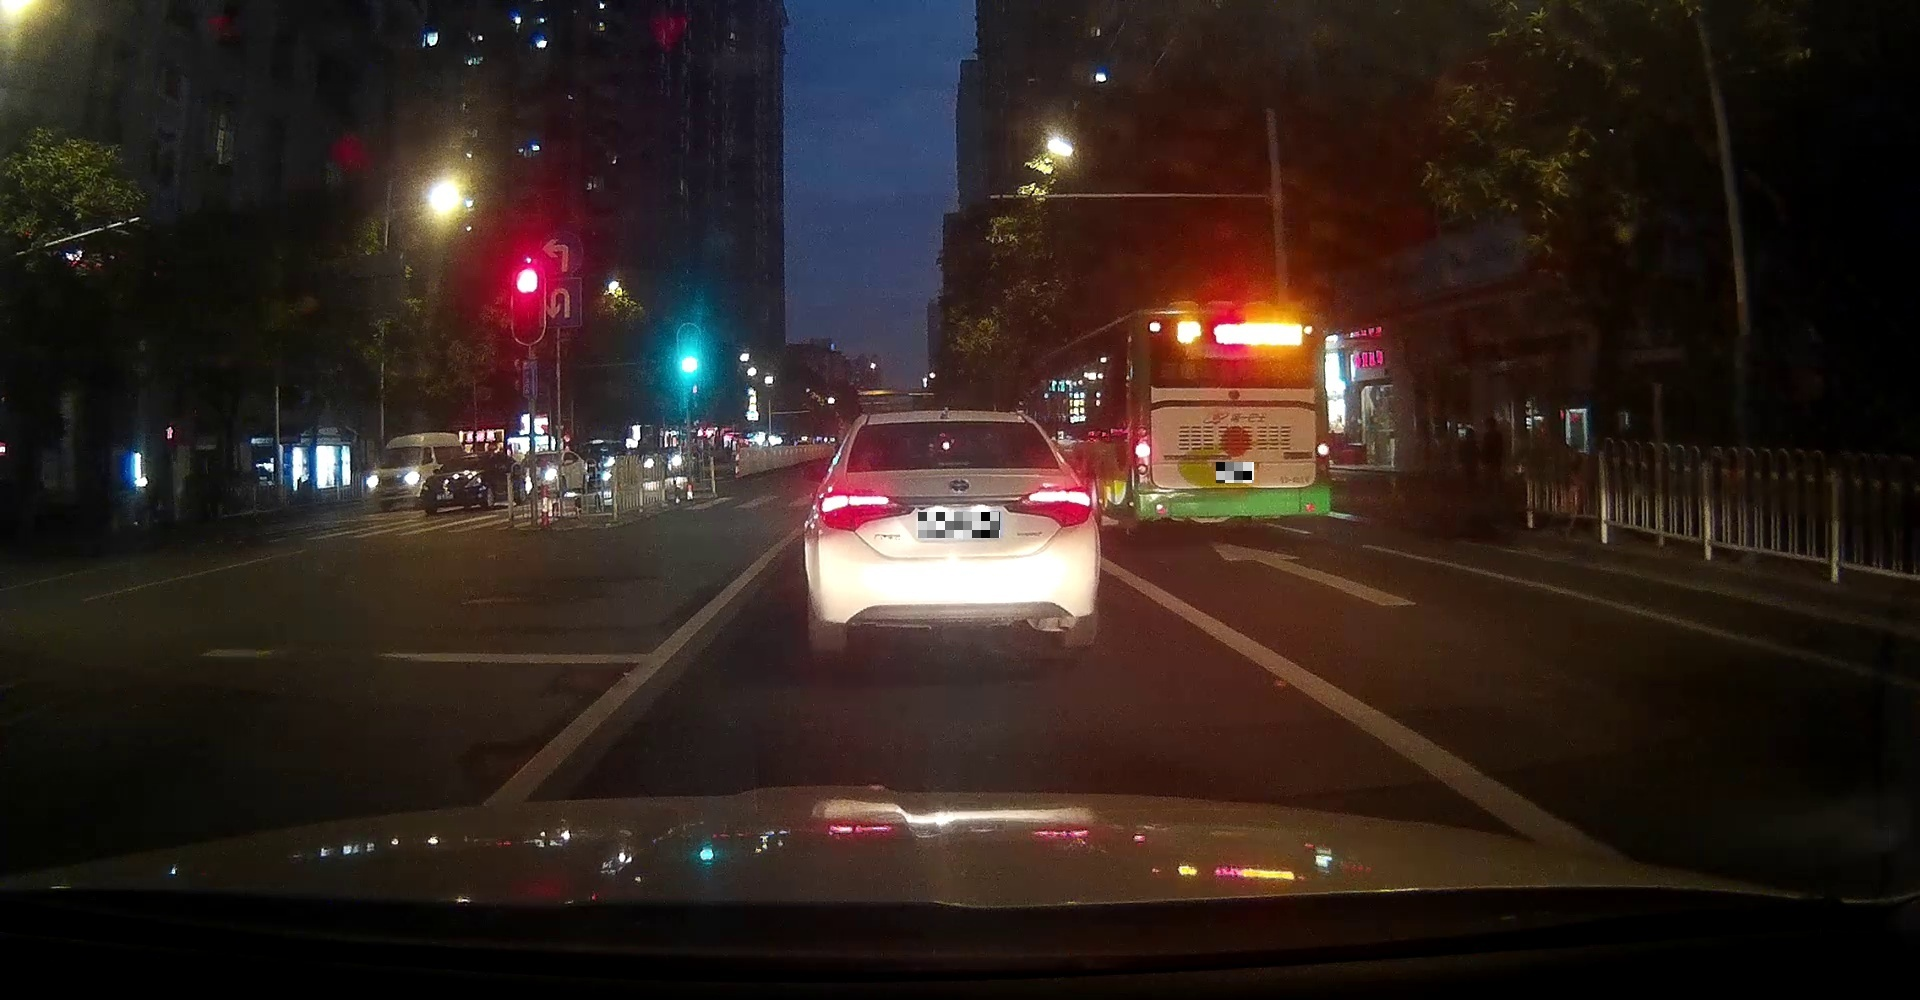L_light: (814, 489, 916, 532), (1134, 426, 1150, 478)
R_light: (1003, 484, 1092, 527), (1316, 426, 1330, 477)
T_light: (937, 459, 970, 470), (1217, 313, 1248, 324)
night-no: (804, 409, 1098, 655), (1130, 305, 1331, 536)
plate_1: (918, 511, 1001, 538)
plate_2: (1217, 462, 1255, 484)
